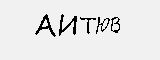А: (34, 13, 57, 39)
В: (110, 16, 123, 34)
И: (57, 12, 79, 38)
Т: (78, 14, 97, 36)
Ю: (96, 15, 110, 35)
